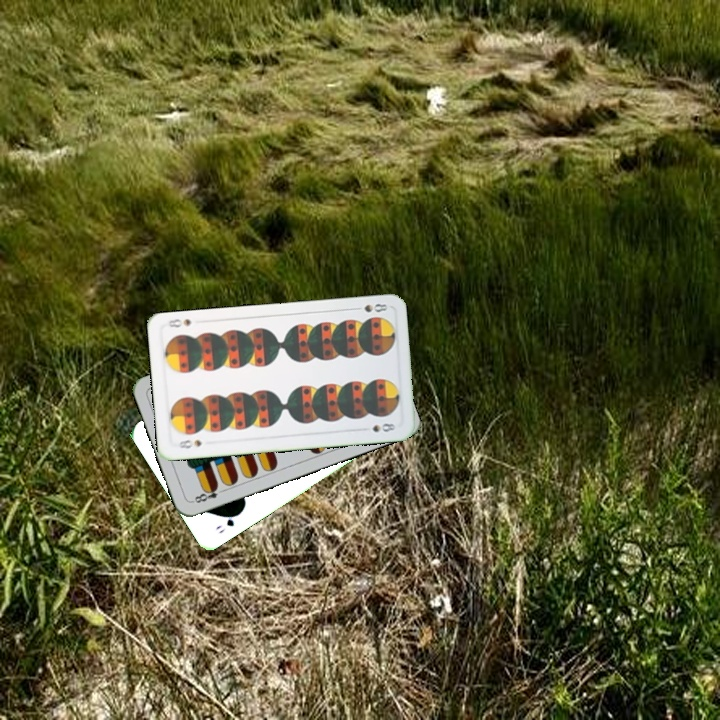E8: (189, 481, 228, 506)
GO: (211, 508, 244, 536)
S8: (349, 299, 390, 315), (173, 435, 205, 451)
